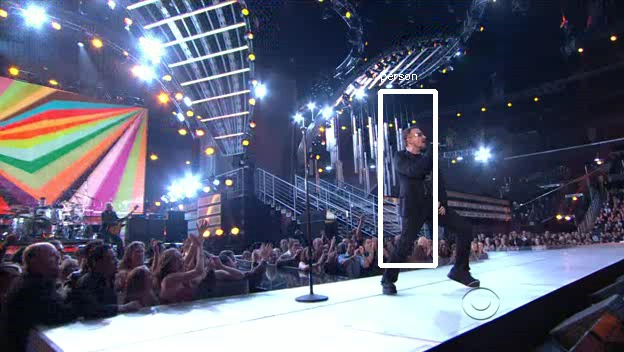person: (392, 131, 453, 241), (389, 131, 450, 241), (395, 131, 456, 241), (392, 128, 453, 238), (392, 134, 453, 244)
target_negative: (319, 208, 573, 347), (507, 82, 599, 255), (248, 107, 344, 172), (606, 29, 624, 175), (528, 251, 588, 274), (537, 312, 538, 335)
